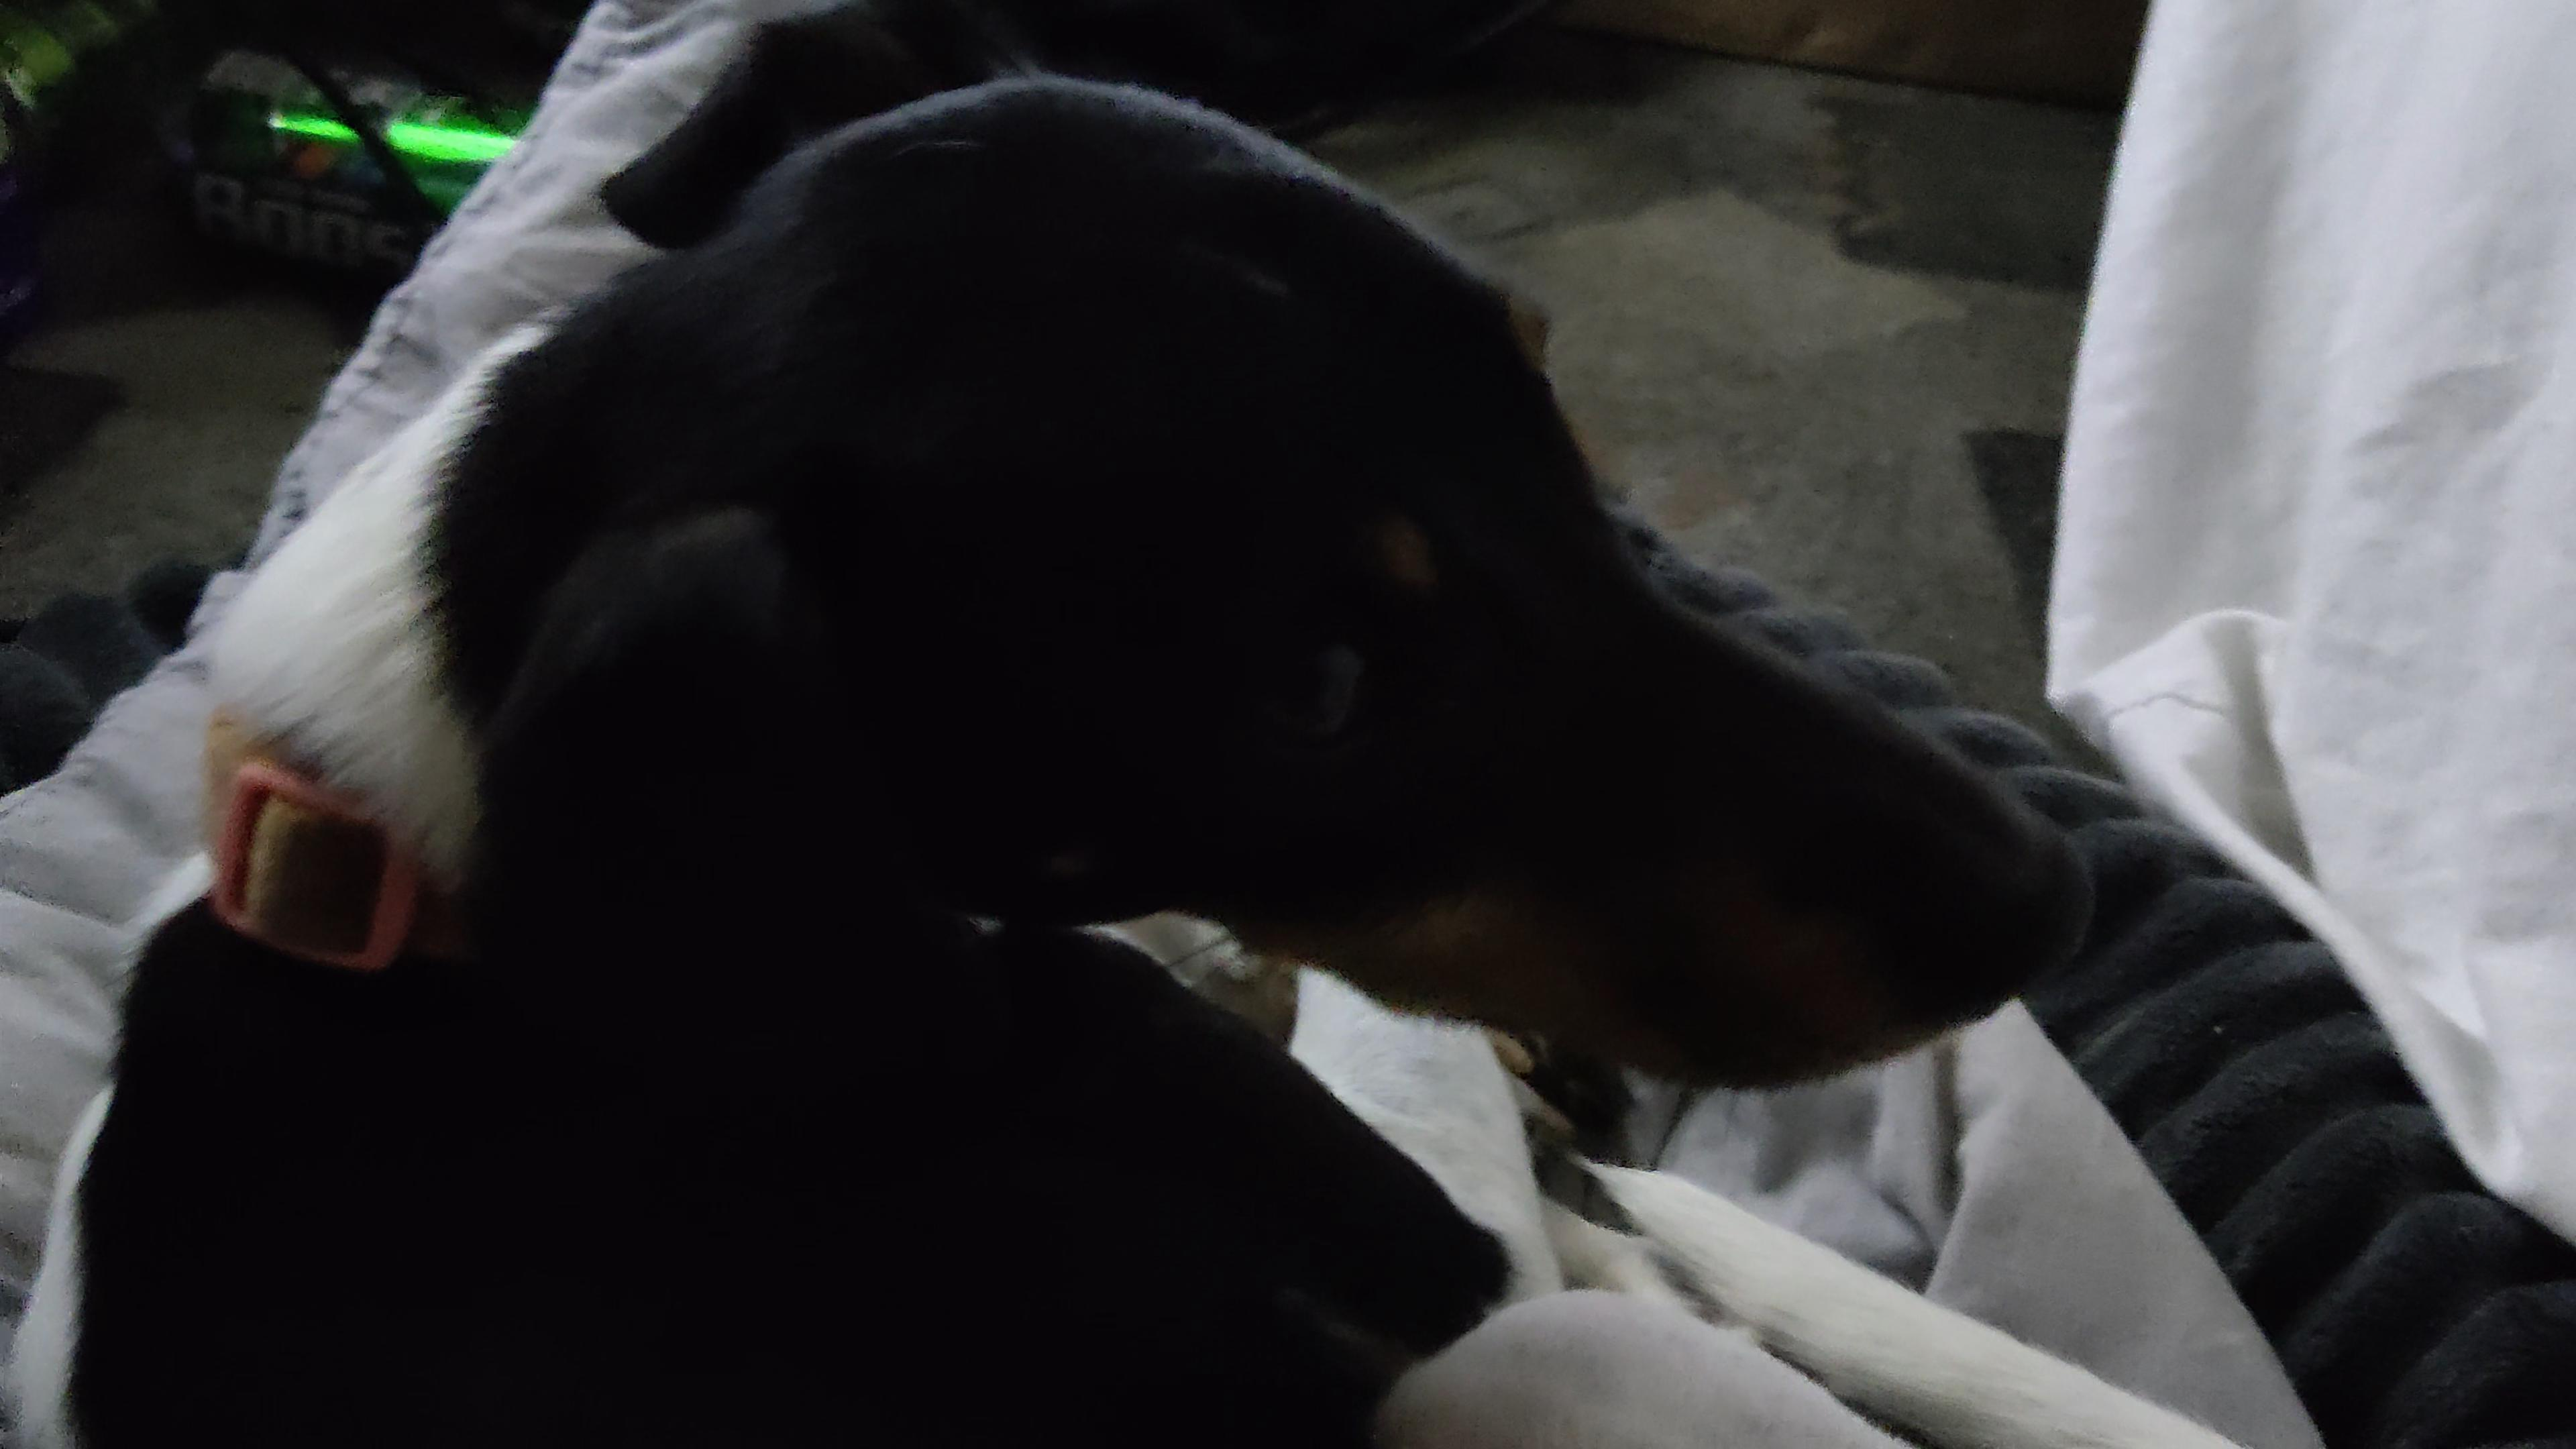Dog: (0, 0, 2277, 1449)
